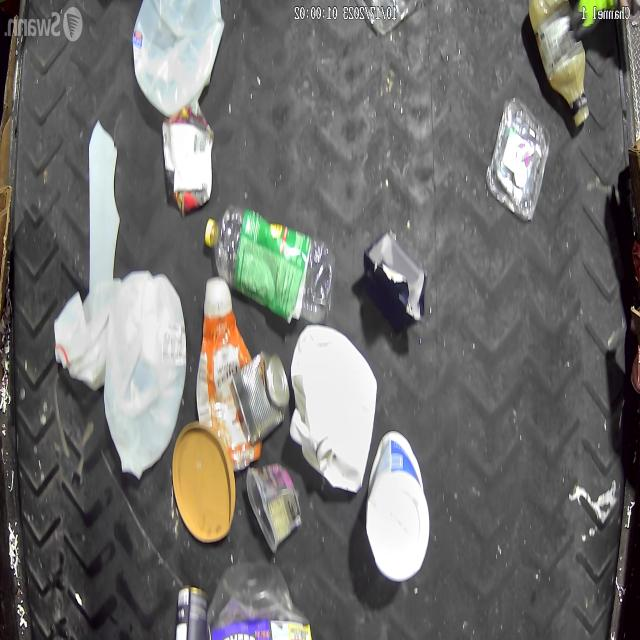can: (244, 456, 302, 550), (233, 351, 289, 439), (174, 583, 207, 640)
milk_jug: (104, 268, 188, 481), (289, 326, 378, 492), (132, 0, 224, 117), (53, 278, 123, 392), (86, 116, 118, 298)
plastic_bottle: (204, 205, 334, 325)
